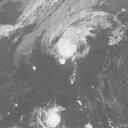cyclone: (41, 11, 122, 59)
